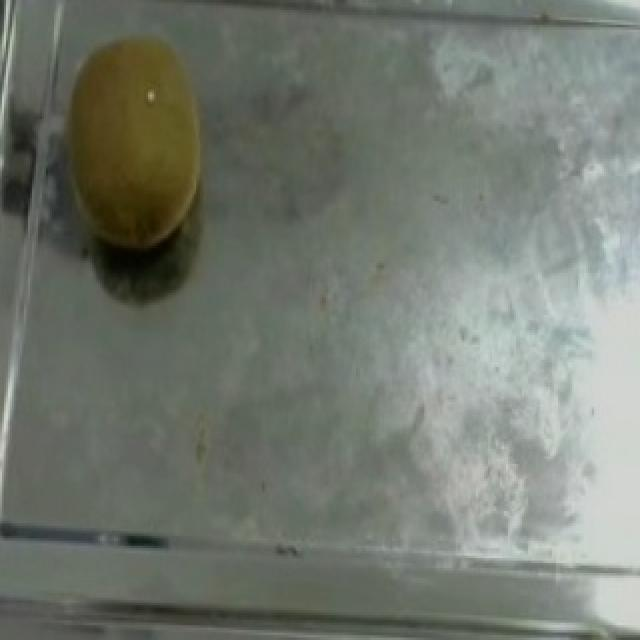Fruit: (34, 20, 222, 273)
